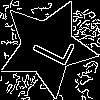L: (22, 22, 76, 69)
